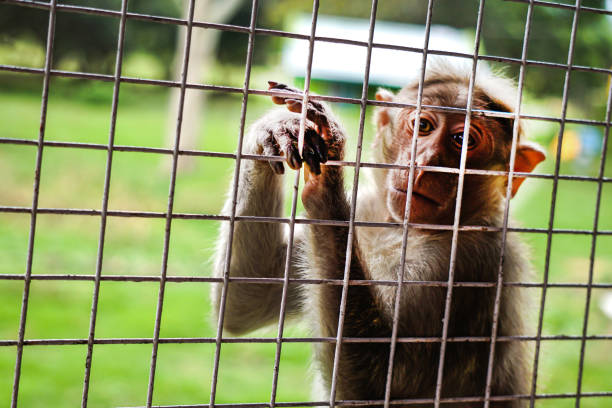chimpanzee: (366, 61, 549, 259)
